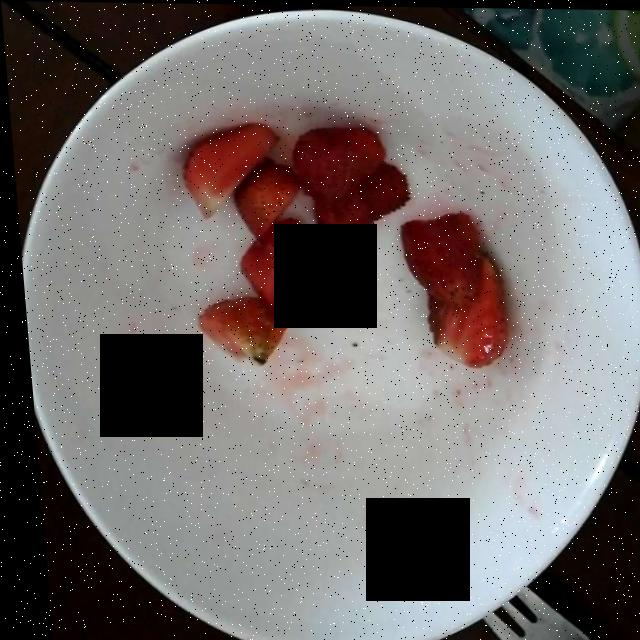strawberries: (167, 121, 509, 366)
